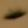cockroach: (5, 10, 25, 20)
